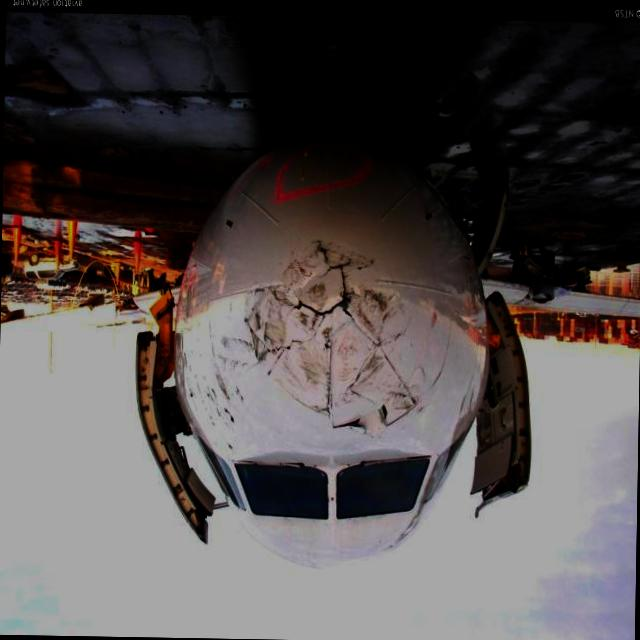crack: (238, 230, 428, 436)
